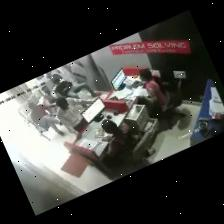person: (102, 120, 140, 163), (56, 97, 92, 139), (140, 69, 168, 111), (29, 102, 64, 135), (52, 74, 97, 98), (42, 86, 58, 114)
